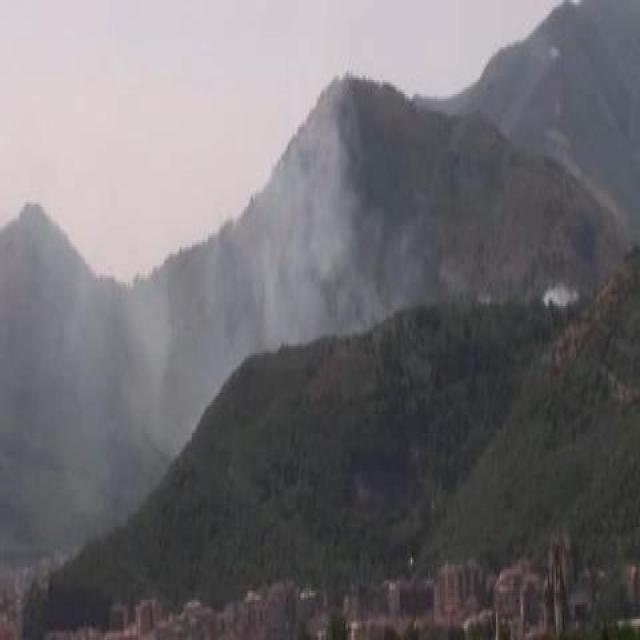Smoke: (54, 285, 178, 482), (243, 163, 360, 350)
